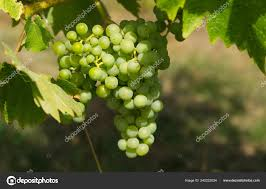grapes: (63, 26, 172, 164)
